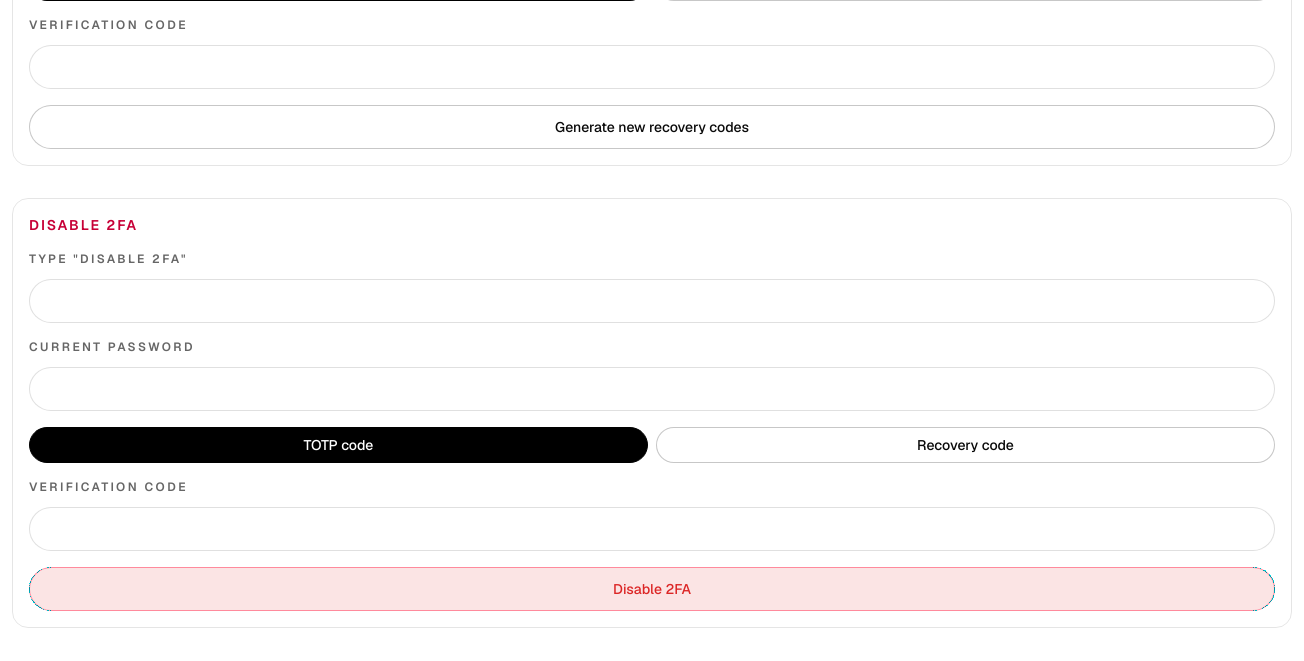
it: AccountPanel › submits the 2FA disable flow with confirmation and verification code
The image size is (1304, 661).
(page scrolled)
Type "DISABLE 2FA" into the field labelled "Type \"DISABLE 2FA\"" at point(652, 301), box [29,279,1275,323]
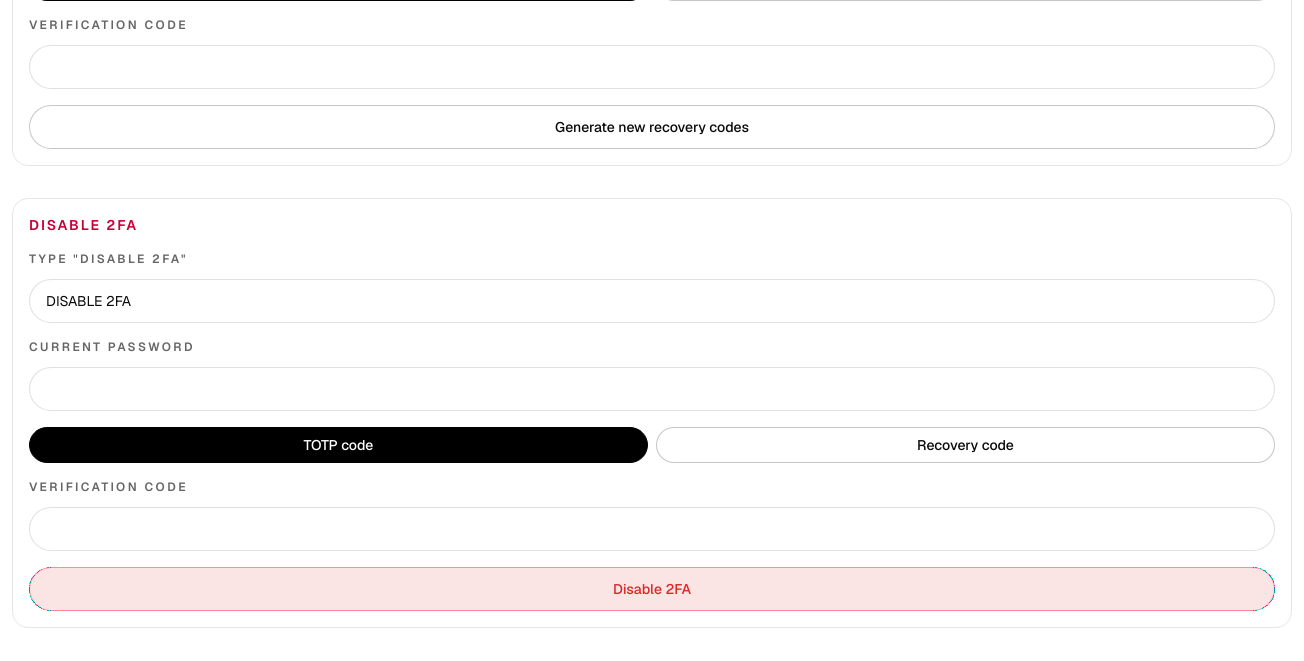
Type "password123" into the password field labelled "Current password" at point(652, 389), box [29,367,1275,411]
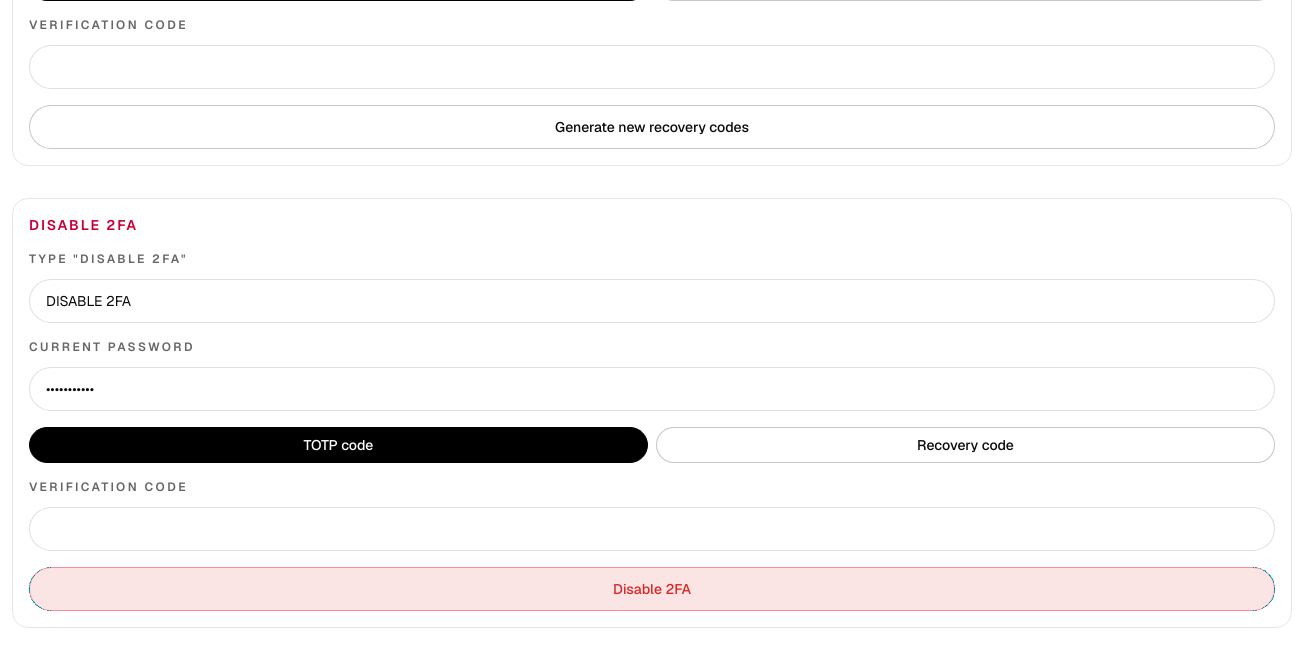
Type "123456" into the field labelled "Verification code" below "Current password" at point(652, 529), box [29,507,1275,551]
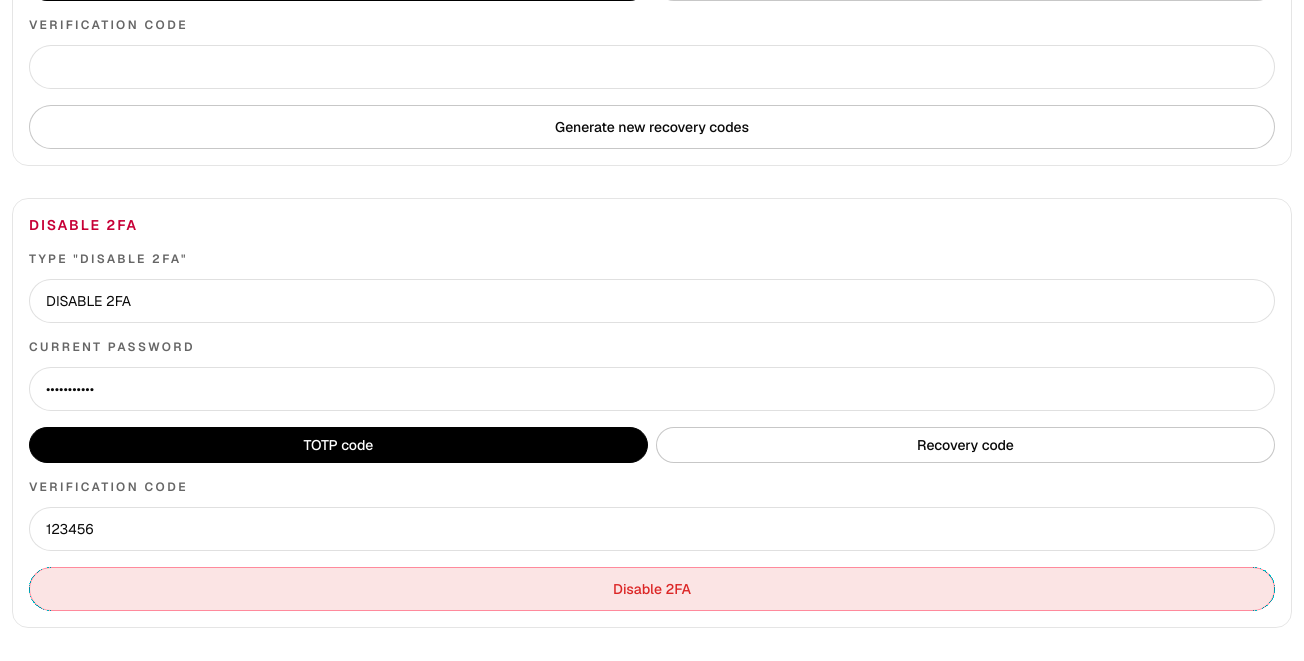
Click the button "Disable 2FA" at point(652, 589), box [29,567,1275,611]
(page scrolled)
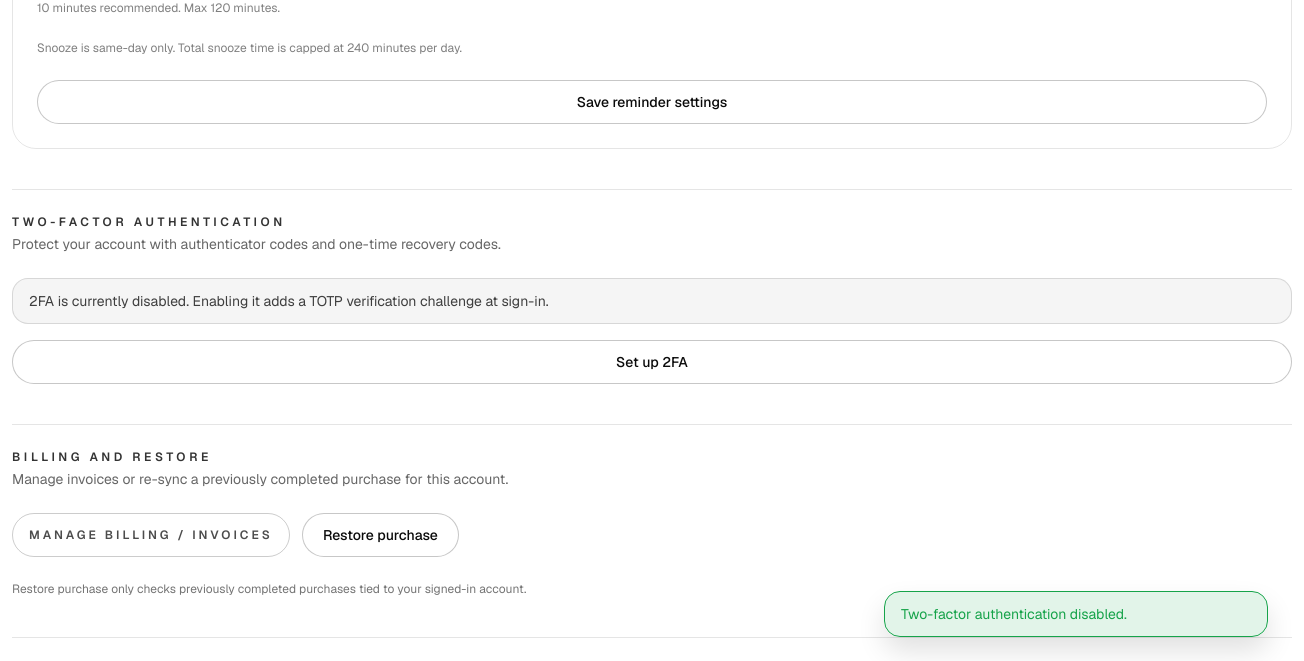
Now the text "2FA is currently disabled" is shown, box [29,292,549,310]
